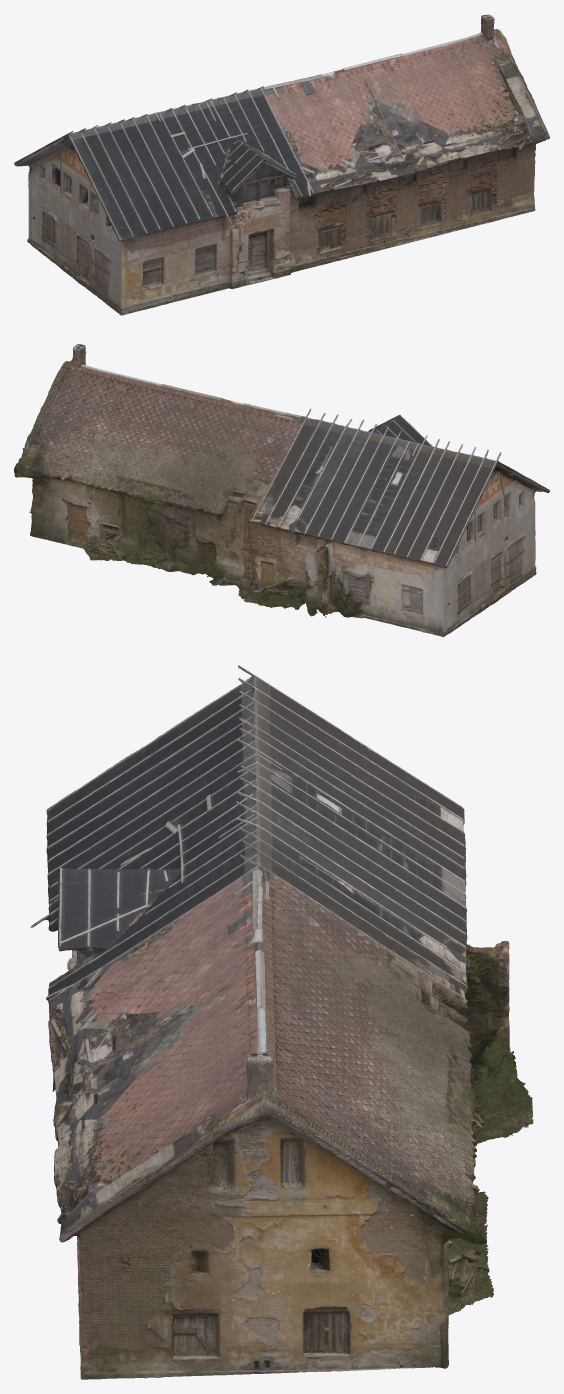
The model's file is sf-forest-house-ruin-d19549.glb.
3 views of the same model, one above another, from view 1: azimuth 30°, elevation 25°; view 2: azimuth 150°, elevation 25°; view 3: azimuth 270°, elevation 25° (orthographic). The views are drawn at different scales.
Parts seen in each view (by area): view 1: Model_material2_0, Model_material0_0, Model_material1_0; view 2: Model_material1_0, Model_material0_0, Model_material2_0; view 3: Model_material2_0, Model_material0_0, Model_material1_0.
Part boxes in pixels (<box>): Model_material2_0: <box>27,73,400,315</box>; Model_material0_0: <box>51,14,549,298</box>; Model_material1_0: <box>14,19,536,287</box>; Model_material1_0: <box>17,347,534,636</box>; Model_material0_0: <box>23,344,549,608</box>; Model_material2_0: <box>14,390,537,616</box>; Model_material2_0: <box>46,665,533,1370</box>; Model_material0_0: <box>31,665,532,1379</box>; Model_material1_0: <box>46,676,522,1368</box>.
Size of the model in its own units: 30 by 10.72 by 15.04.
3 materials, 3 textured.
